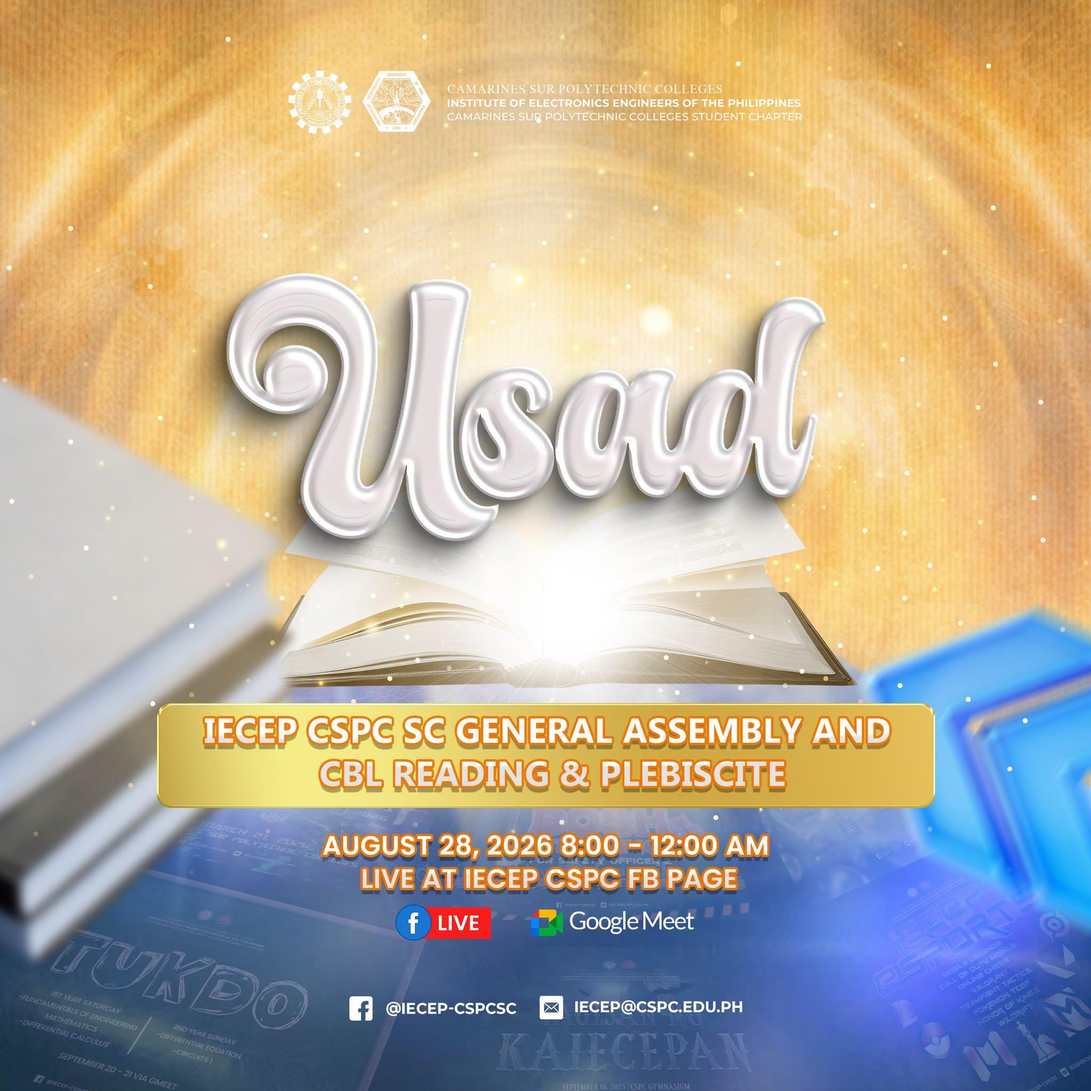embellishment: (397, 903, 433, 938), (535, 990, 569, 1024), (533, 907, 568, 939), (346, 990, 379, 1022)
logo: (283, 65, 358, 137), (360, 65, 435, 136)
text: (215, 261, 850, 554), (193, 706, 909, 798), (315, 825, 779, 897), (441, 78, 812, 130), (567, 906, 696, 939), (571, 994, 751, 1017), (381, 997, 524, 1019), (436, 912, 484, 933)
underlay: (156, 699, 932, 808)
